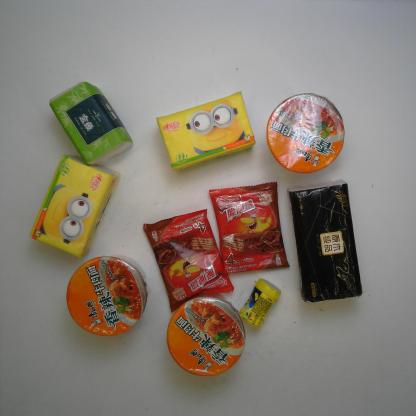Dessert: (143, 208, 234, 313), (209, 181, 290, 274)
Gum: (238, 277, 282, 329)
Instant Noodles: (66, 254, 148, 337), (266, 92, 346, 174), (166, 297, 246, 377)
Tissue: (29, 154, 121, 258), (286, 179, 362, 304), (155, 91, 257, 171), (48, 80, 134, 168)
